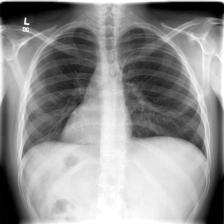normal: (16, 24, 210, 184)
